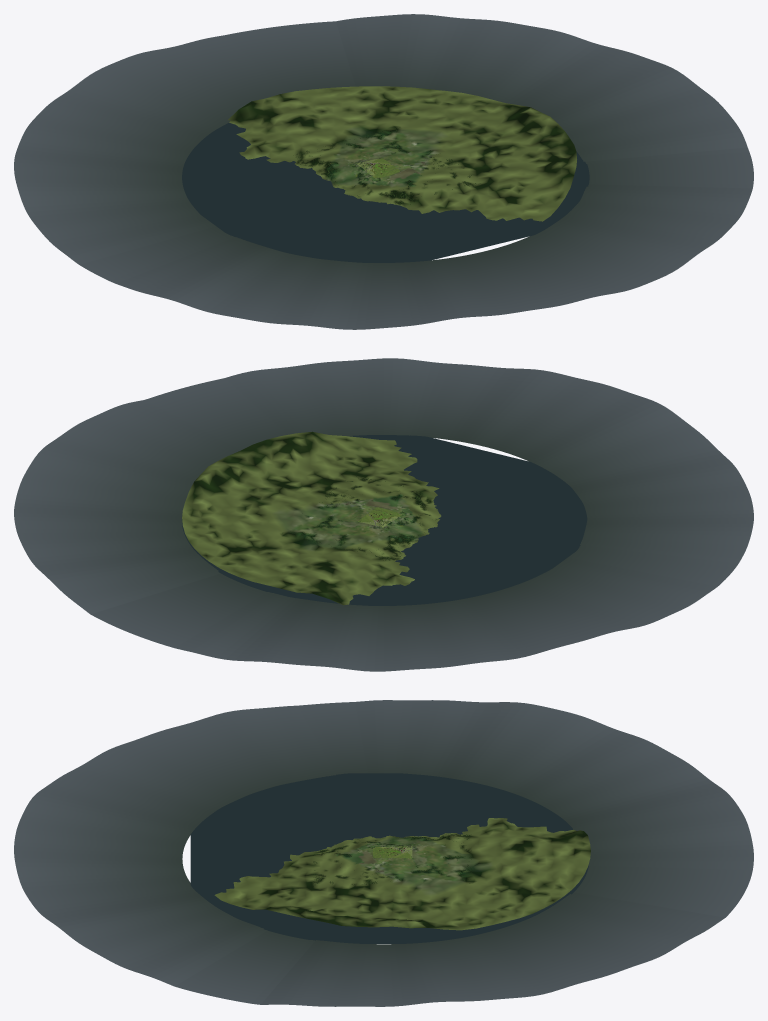
Rendered from byneset_south_06_plain.glb.
3 renders of one model, top to bottom at view 1: azimuth 30°, elevation 25°; view 2: azimuth 150°, elevation 25°; view 3: azimuth 270°, elevation 25°, orthographic.
Visible parts, largest first — view 1: FAR_Horizon, SURF_Far, WATER_Sea, FAR_Trees; view 2: FAR_Horizon, SURF_Far, WATER_Sea, FAR_Trees; view 3: FAR_Horizon, WATER_Sea, SURF_Far, FAR_Trees.
Part boxes in pixels (x1,y1,x2,y2): FAR_Horizon: (14, 14, 753, 329); SURF_Far: (228, 86, 576, 221); WATER_Sea: (182, 123, 589, 262); FAR_Trees: (293, 127, 481, 204); FAR_Horizon: (14, 358, 753, 671); SURF_Far: (182, 431, 441, 605); WATER_Sea: (182, 435, 587, 605); FAR_Trees: (282, 476, 435, 560); FAR_Horizon: (14, 700, 753, 1006); WATER_Sea: (190, 773, 588, 943); SURF_Far: (214, 818, 590, 930); FAR_Trees: (313, 834, 471, 886).
Bounding box in the file's own units: 11200 × 274 × 11200.
32 materials, 18 textured.
